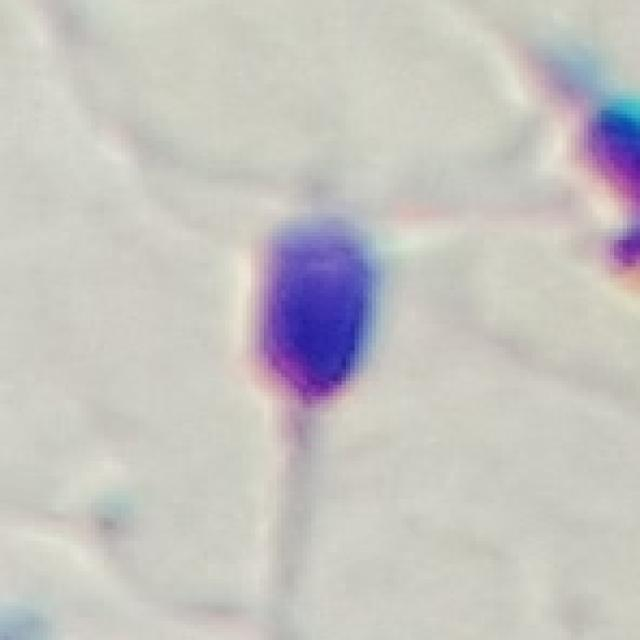normal sperm: (251, 212, 386, 591)
